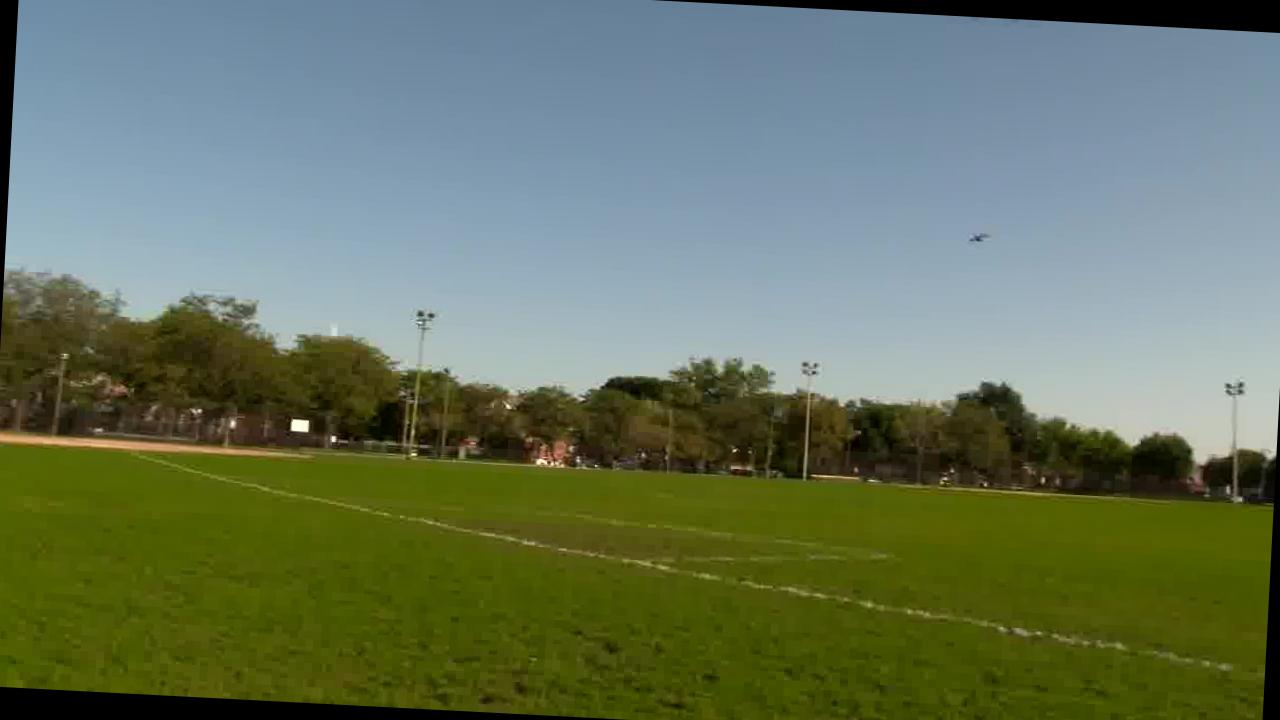drone: (954, 222, 996, 250)
